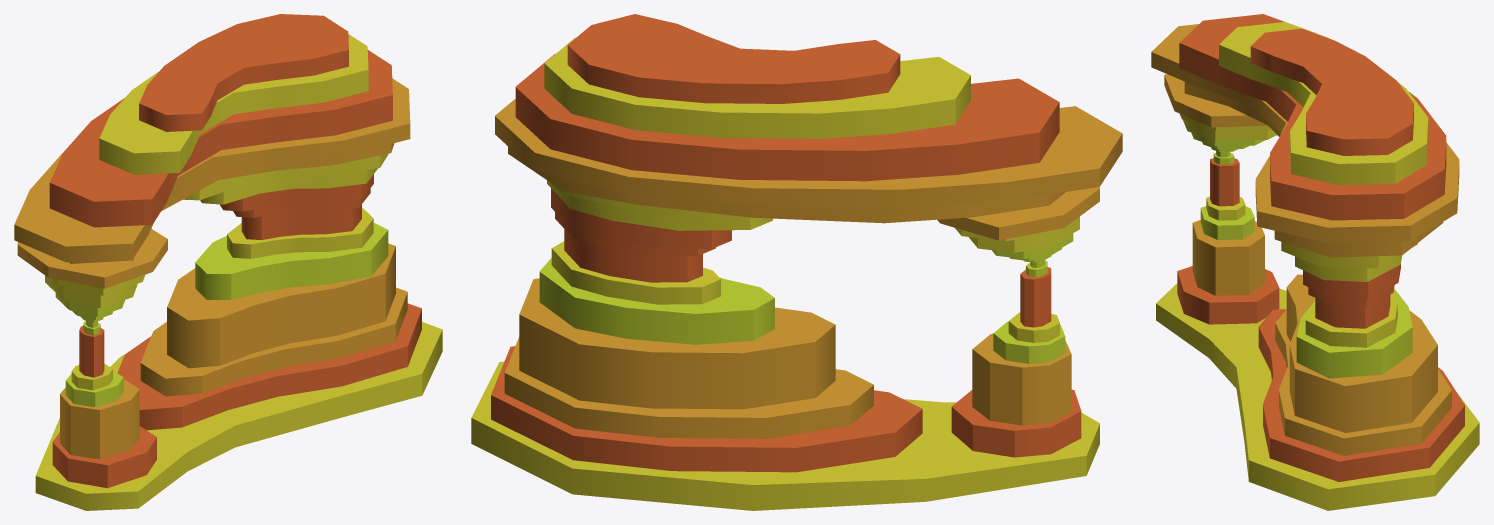
Rendered from Rocher_05.fbx.
3 views of the same model, side by side, from view 1: azimuth 30°, elevation 25°; view 2: azimuth 150°, elevation 25°; view 3: azimuth 270°, elevation 25° (orthographic). The views are drawn at different scales.
Parts seen in each view (by area): view 1: pCube19, pCube6, pCube9, pCube21, pCube18, pCube20, pCube7, pCube8, pCube10, pCylinder2, pCylinder13, pCylinder1 (+13 smaller); view 2: pCube19, pCube6, pCube9, pCube18, pCube21, pCube20, pCube7, pCube8, pCube10, pCylinder2, pCube17, pCylinder1 (+11 smaller); view 3: pCube6, pCube19, pCube21, pCube9, pCube18, pCube20, pCube7, pCube8, pCube10, pCylinder2, pCylinder1, pCube17 (+13 smaller).
Part boxes in pixels (bbox=[...]): pCube19: bbox=[49, 50, 392, 227]; pCube6: bbox=[35, 322, 442, 510]; pCube9: bbox=[167, 243, 395, 368]; pCube21: bbox=[139, 14, 348, 131]; pCube18: bbox=[14, 78, 410, 262]; pCube20: bbox=[99, 34, 368, 174]; pCube7: bbox=[117, 303, 421, 430]; pCube8: bbox=[140, 287, 407, 396]; pCube10: bbox=[195, 223, 388, 299]; pCylinder2: bbox=[60, 379, 139, 459]; pCylinder13: bbox=[17, 229, 167, 288]; pCylinder1: bbox=[52, 426, 156, 488]; pCube19: bbox=[515, 54, 1059, 181]; pCube6: bbox=[471, 361, 1099, 510]; pCube9: bbox=[519, 278, 835, 409]; pCube18: bbox=[495, 99, 1122, 208]; pCube21: bbox=[567, 14, 900, 103]; pCube20: bbox=[544, 37, 970, 138]; pCube7: bbox=[491, 346, 922, 472]; pCube8: bbox=[504, 337, 873, 438]; pCube10: bbox=[539, 258, 774, 344]; pCylinder2: bbox=[972, 333, 1071, 425]; pCube17: bbox=[508, 146, 1065, 223]; pCylinder1: bbox=[951, 389, 1081, 457]; pCube6: bbox=[1156, 283, 1479, 510]; pCube19: bbox=[1179, 14, 1446, 220]; pCube21: bbox=[1250, 28, 1413, 155]; pCube9: bbox=[1286, 274, 1437, 432]; pCube18: bbox=[1151, 24, 1459, 242]; pCube20: bbox=[1219, 22, 1428, 185]; pCube7: bbox=[1258, 309, 1464, 481]; pCube8: bbox=[1275, 310, 1451, 455]; pCube10: bbox=[1296, 288, 1412, 378]; pCylinder2: bbox=[1192, 220, 1264, 295]; pCylinder1: bbox=[1177, 266, 1279, 324]; pCube17: bbox=[1184, 82, 1443, 257].
Bounding box in the file's own units: 3325 × 2269 × 2047.
